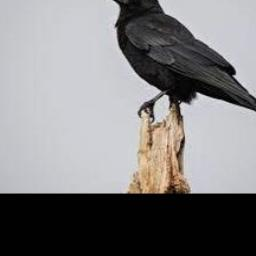Crow: (101, 0, 256, 119)
